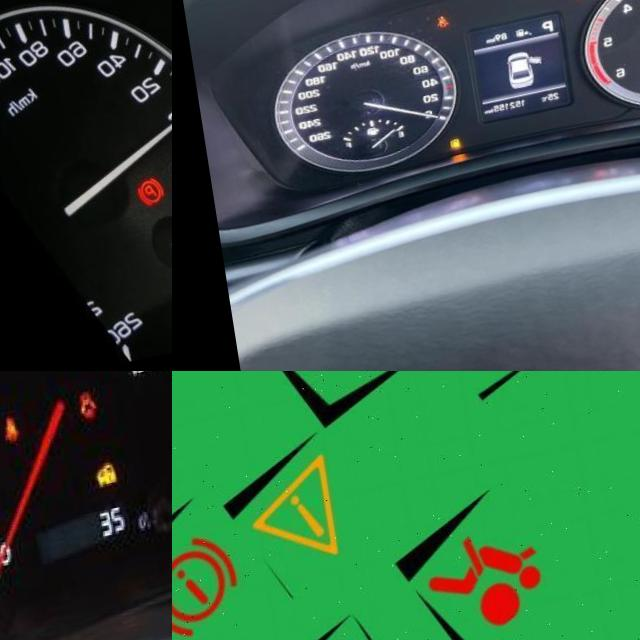Seat Belt: (429, 25, 444, 40)
